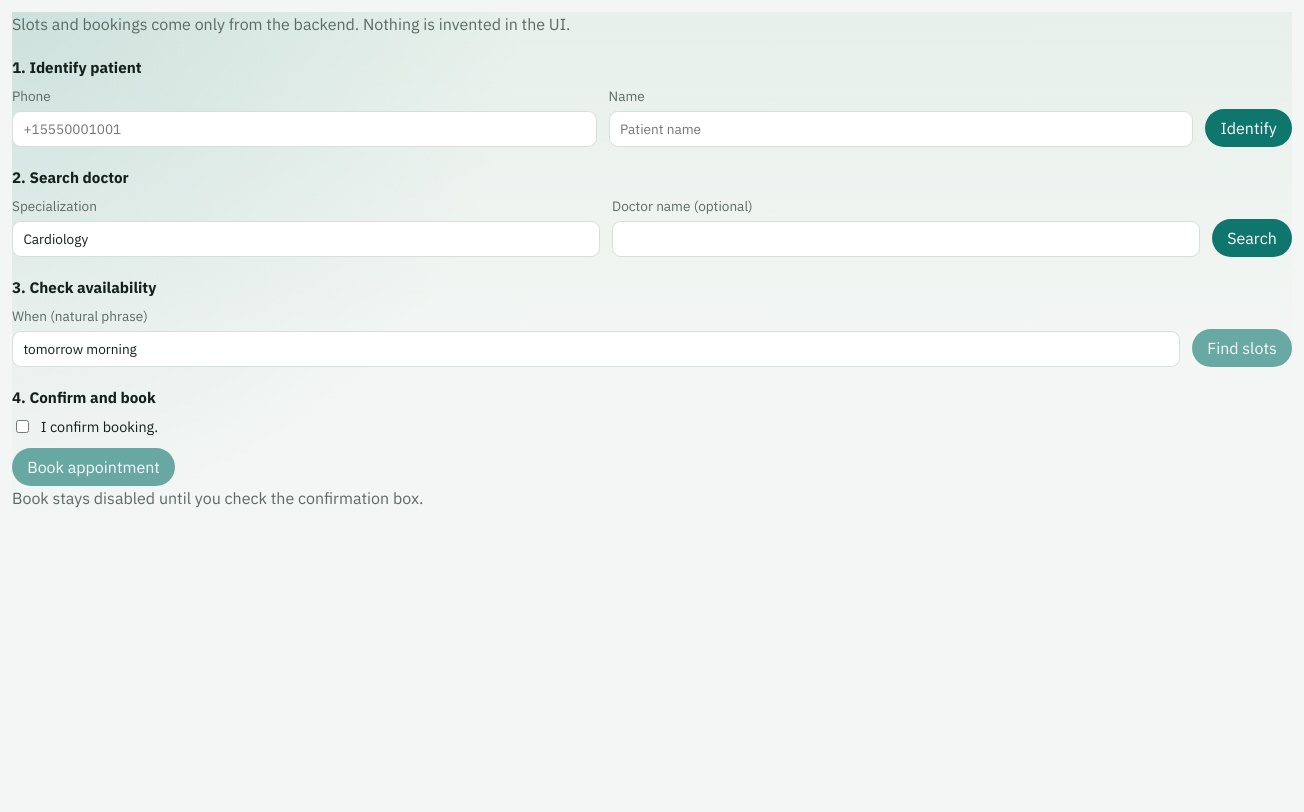
it: AppointmentBookingPanel (KAN-109) › TC-003 empty availability does not invent slots or allow book
The image size is (1304, 812).
Type "+1" into the field with test id "booking-phone".
click(304, 129); type("+1")  # box [12, 111, 597, 147]
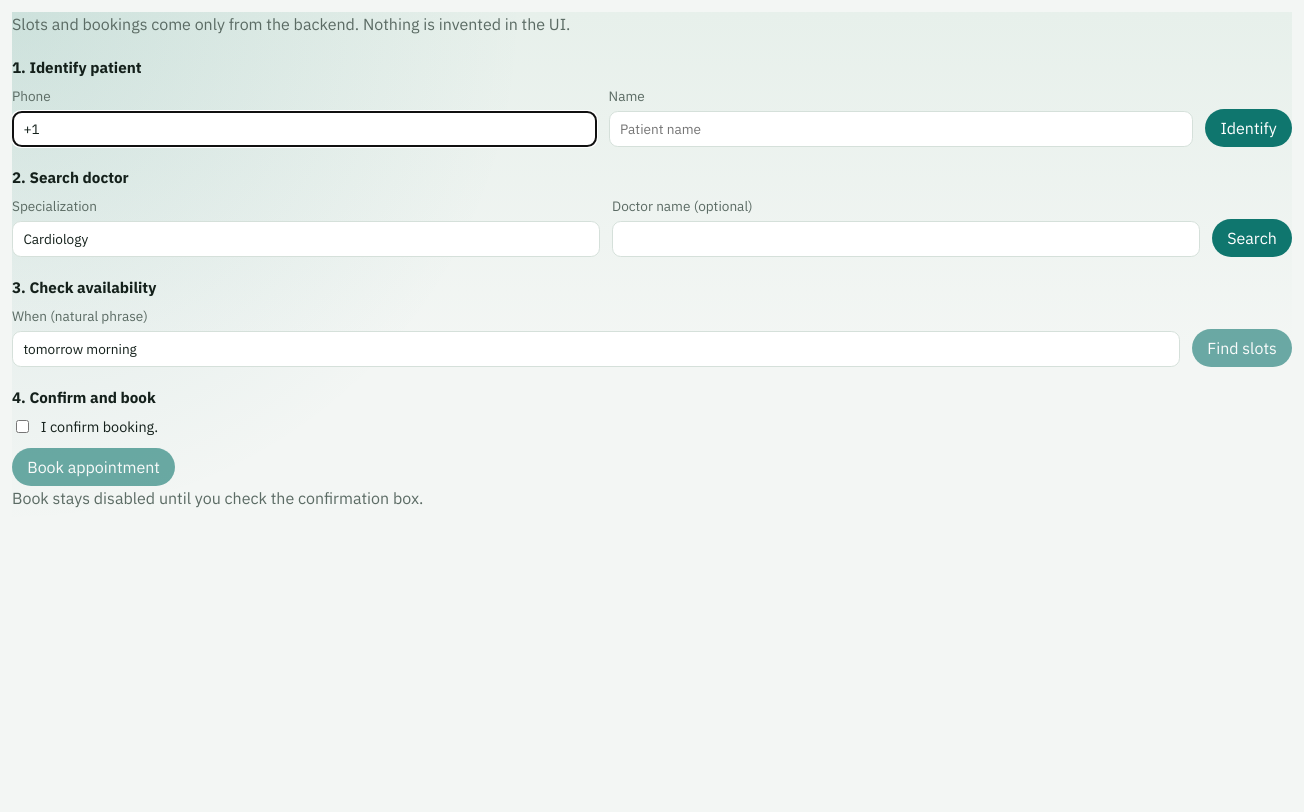
Type "Ada" into the field with test id "booking-name".
click(901, 129); type("Ada")  # box [609, 111, 1193, 147]
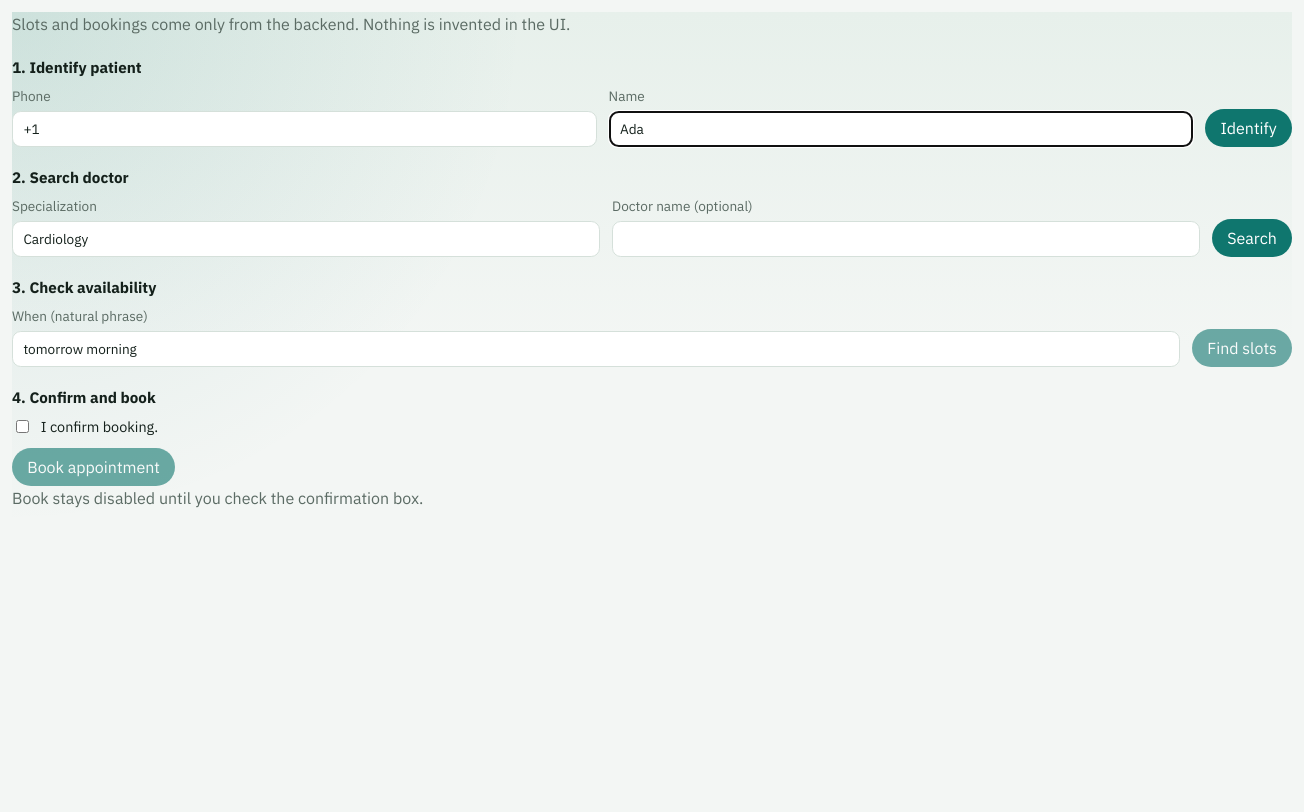
Click the button with test id "booking-identify".
click(1249, 128)  # box [1205, 109, 1292, 147]
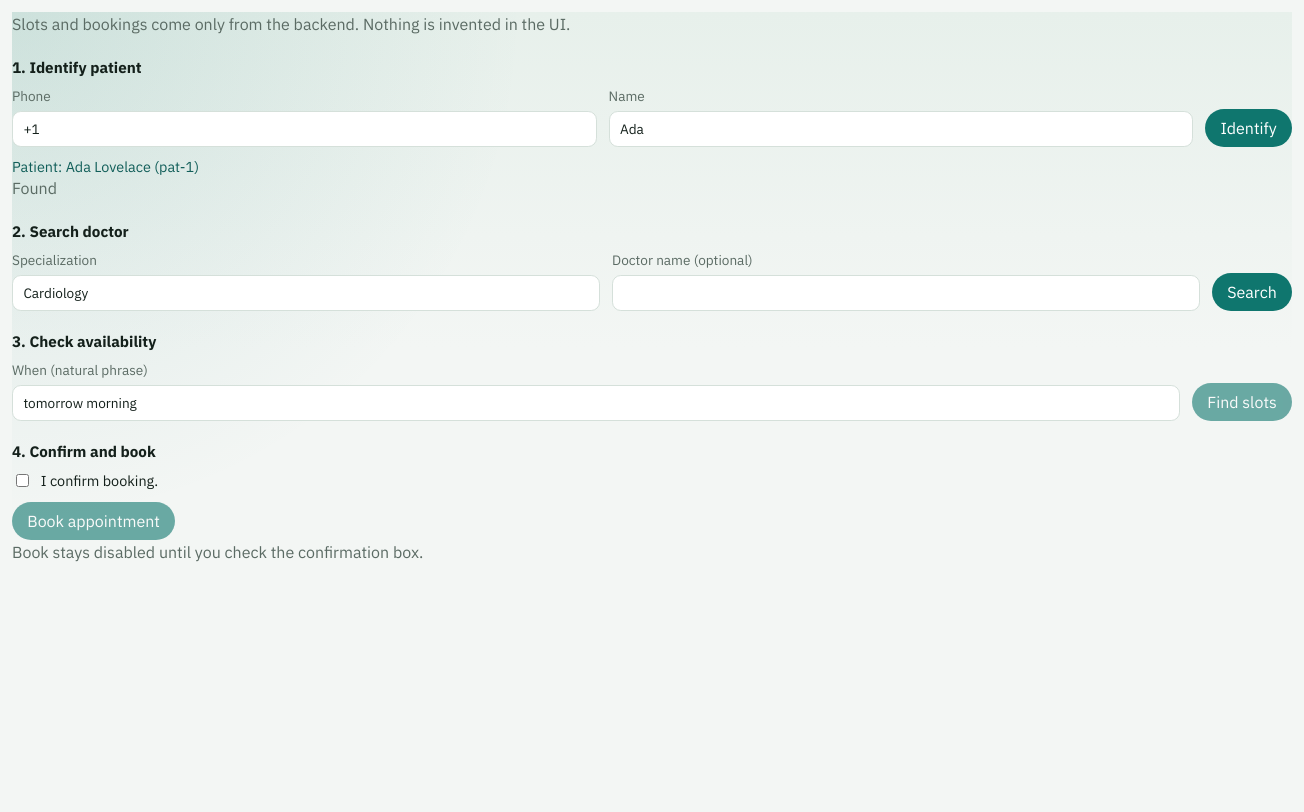
Expected: the text "Patient: Ada Lovelace (pat-1)" is shown, [12, 157, 199, 176]
Click the button with test id "booking-search-doctors".
click(1252, 292)  # box [1212, 273, 1292, 311]
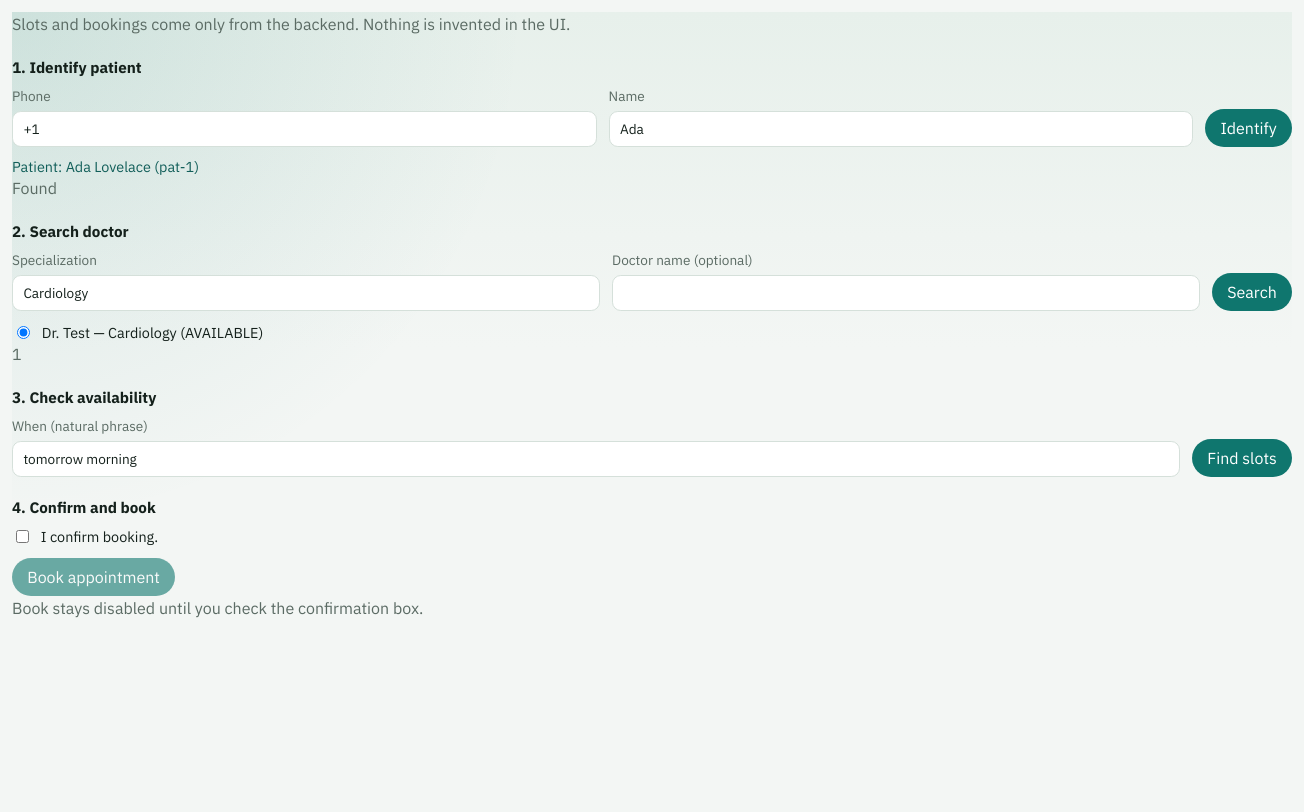
Expected: the list with test id "booking-doctor-list" is shown, [17, 323, 263, 342]
Click the button with test id "booking-check-availability".
click(1242, 458)  # box [1192, 439, 1292, 477]
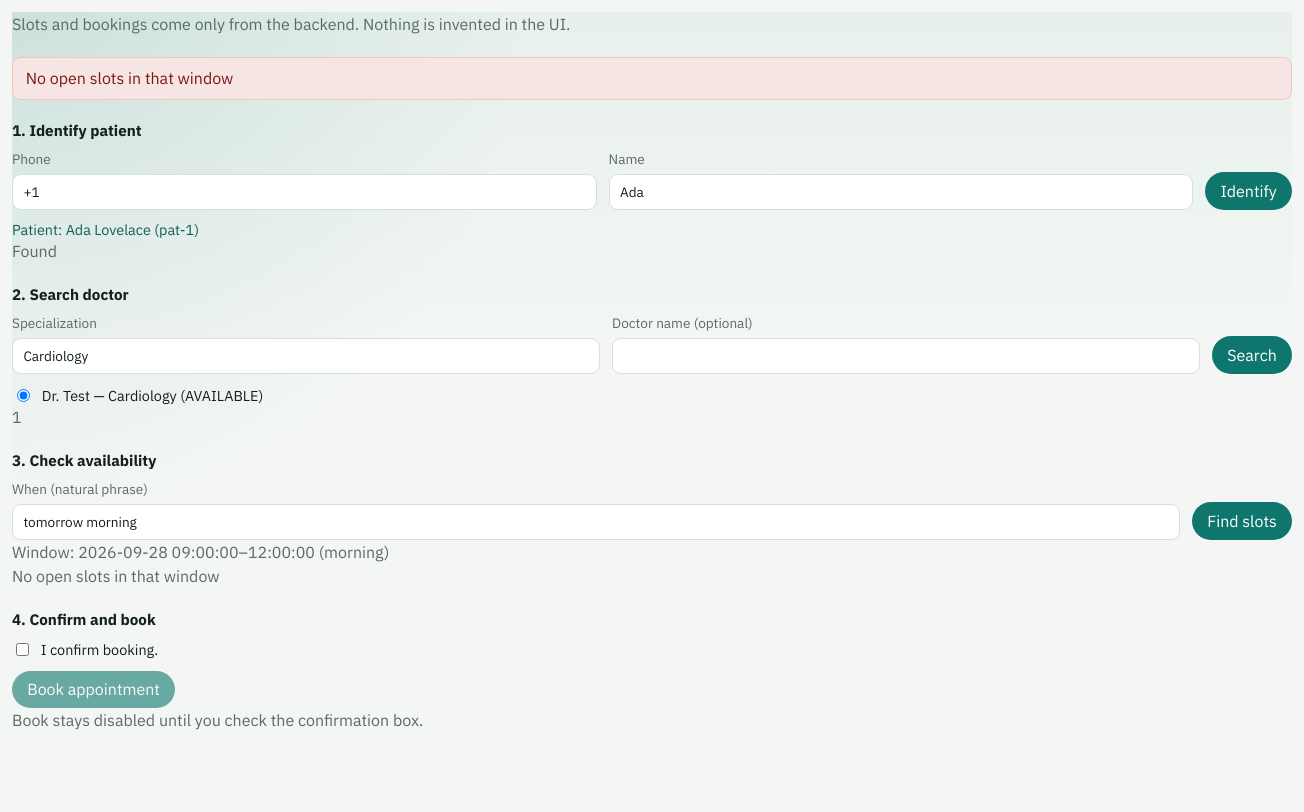
Expected: the button with test id "booking-submit" is disabled, [12, 670, 175, 708]
Expected: the text with test id "booking-slots-empty" reads "No open slots in that window", [12, 566, 220, 586]
